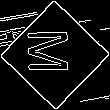M_E: (30, 32, 80, 78)
